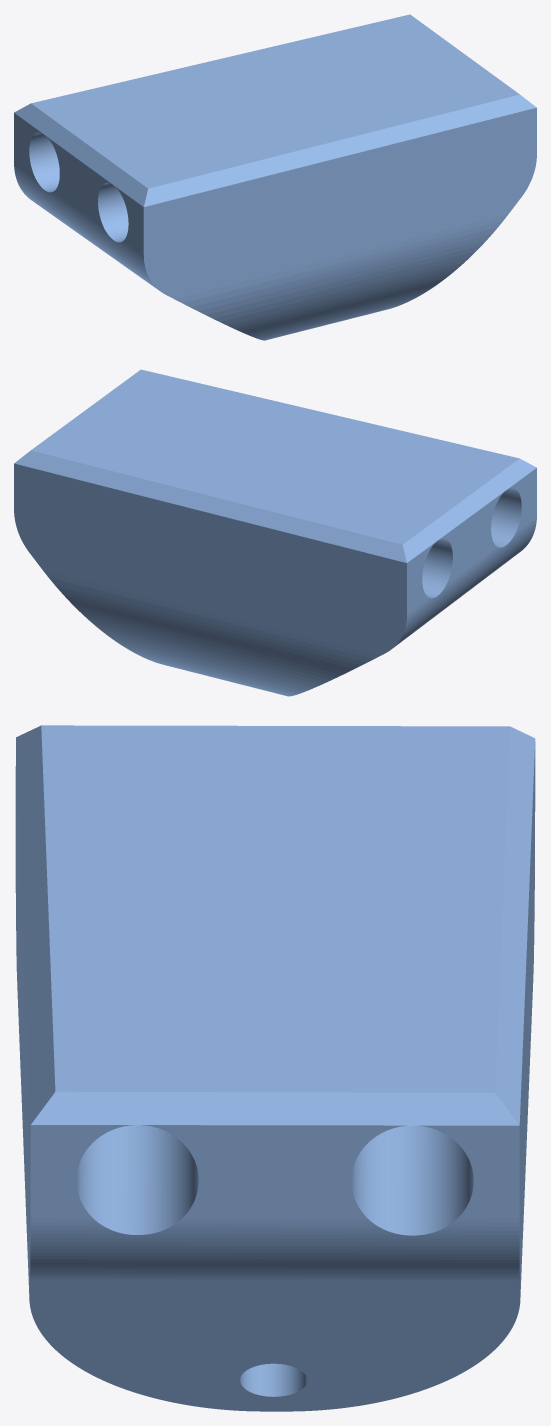
The model's file is pulgar_2.dae.
3 renders of one model, top to bottom at view 1: azimuth 30°, elevation 25°; view 2: azimuth 150°, elevation 25°; view 3: azimuth 270°, elevation 25°, orthographic. The views are drawn at different scales.
Parts seen in each view (by area): view 1: Fingerdesign-All-2.001; view 2: Fingerdesign-All-2.001; view 3: Fingerdesign-All-2.001.
Part boxes in pixels (<box>): Fingerdesign-All-2.001: <box>14,14,536,340</box>; Fingerdesign-All-2.001: <box>14,369,536,696</box>; Fingerdesign-All-2.001: <box>15,725,535,1411</box>.
Bounding box in the file's own units: 0.03 × 0.017 × 0.0158.
